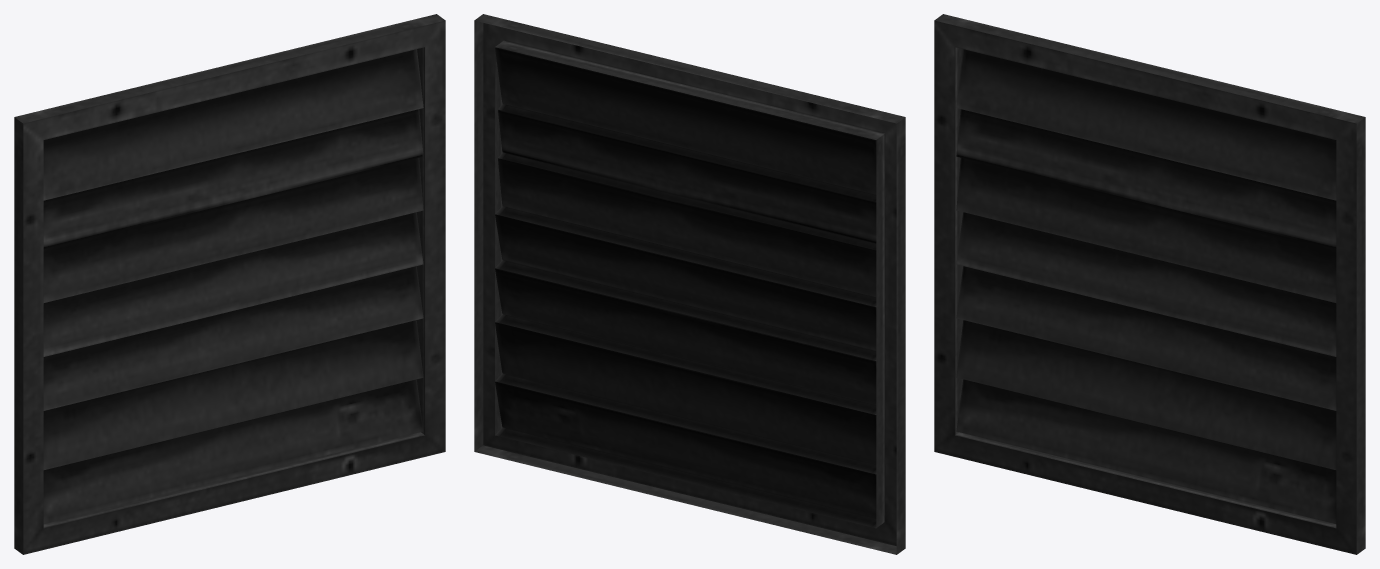
File: vent_1.obj
The picture shows the model from 3 angles, left to right: view 1: azimuth 30°, elevation 25°; view 2: azimuth 150°, elevation 25°; view 3: azimuth 330°, elevation 25°; orthographic projection.
Visible parts, largest first — view 1: vent_1; view 2: vent_1; view 3: vent_1.
Part boxes in pixels (x1,y1,x2,y2): vent_1: (14,14,445,554); vent_1: (474,14,905,554); vent_1: (934,14,1365,554).
Bounding box in the file's own units: 0.82 × 0.8 × 0.03.
